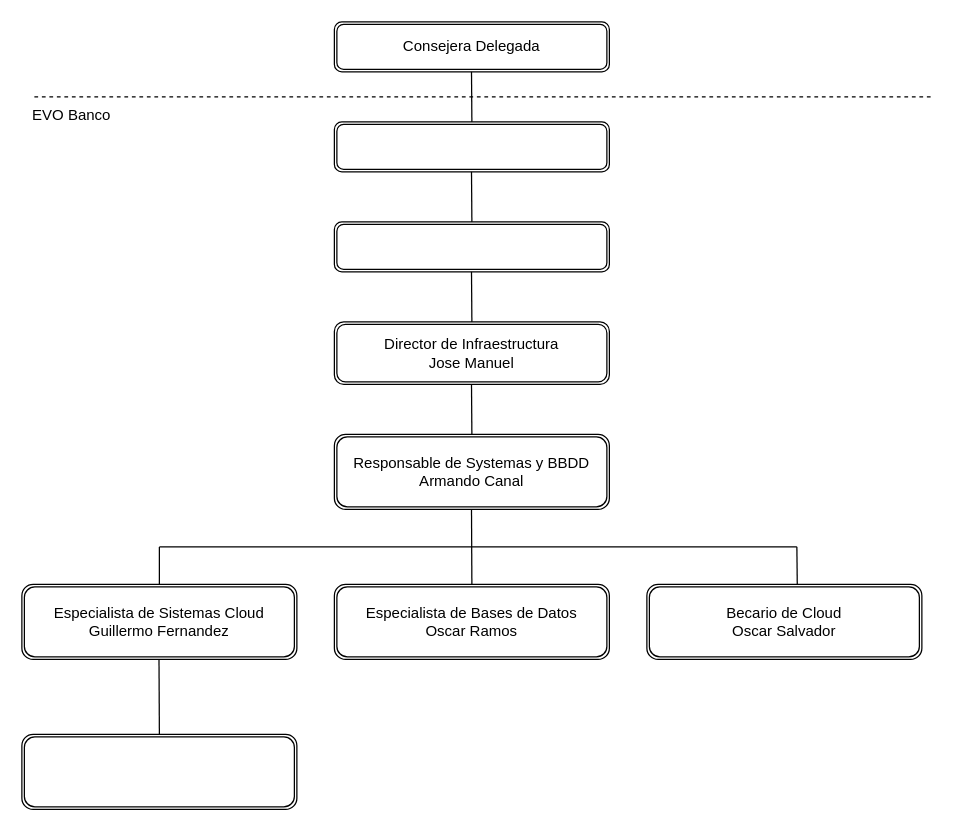
Some shapes in this 958 by 831 pixel diagram are drawn without their labels. The centre of each missing label's shape, as x and y in pixels:
"Becario de DevOps Javier Francisco" belongs at point 159,771.
"Director Ejecutivo de Tecnología" belongs at point 471,246.
"Director General" belongs at point 471,146.
